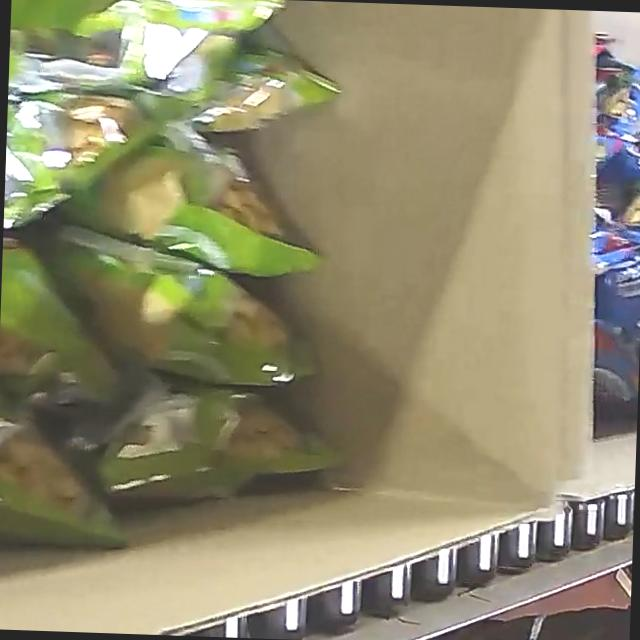paprika: (547, 8, 640, 411)
yogurt: (0, 0, 361, 557)
